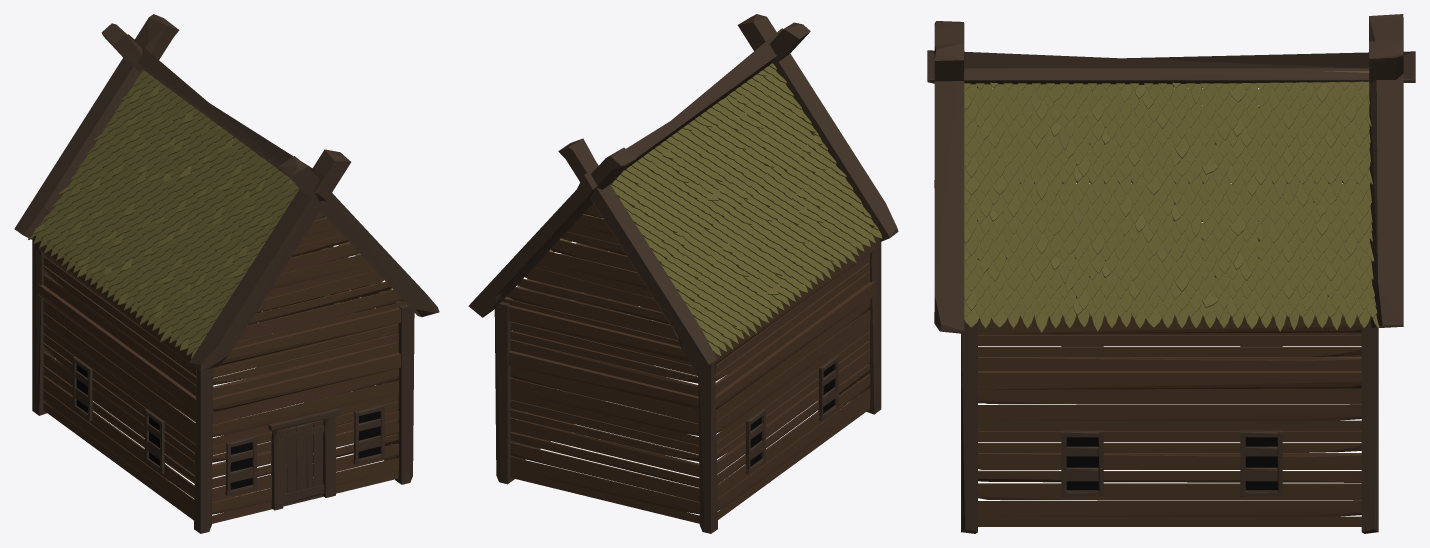
Rendered from SM_building_norse_02.fbx.
3 views of the same model, side by side, from view 1: azimuth 30°, elevation 25°; view 2: azimuth 150°, elevation 25°; view 3: azimuth 270°, elevation 25° (orthographic). The views are drawn at different scales.
Parts seen in each view (by area): view 1: Object109; view 2: Object109; view 3: Object109.
Part boxes in pixels (<box>): Object109: <box>14,14,439,533</box>; Object109: <box>468,14,898,533</box>; Object109: <box>927,14,1415,533</box>.
Size of the model in its own units: 297 by 420 by 418.
